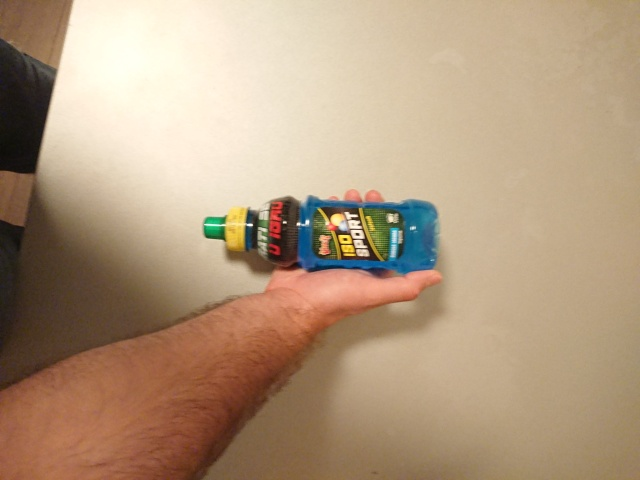Vindi Iso Sport Forest Strawberries 500mL: (202, 193, 441, 276)
